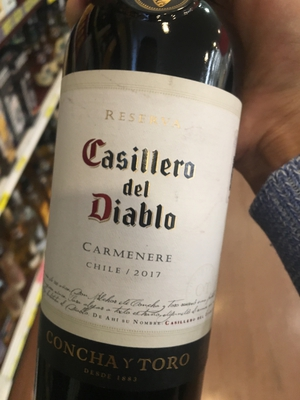casillero del diablo carmenere: (30, 36, 242, 399)
